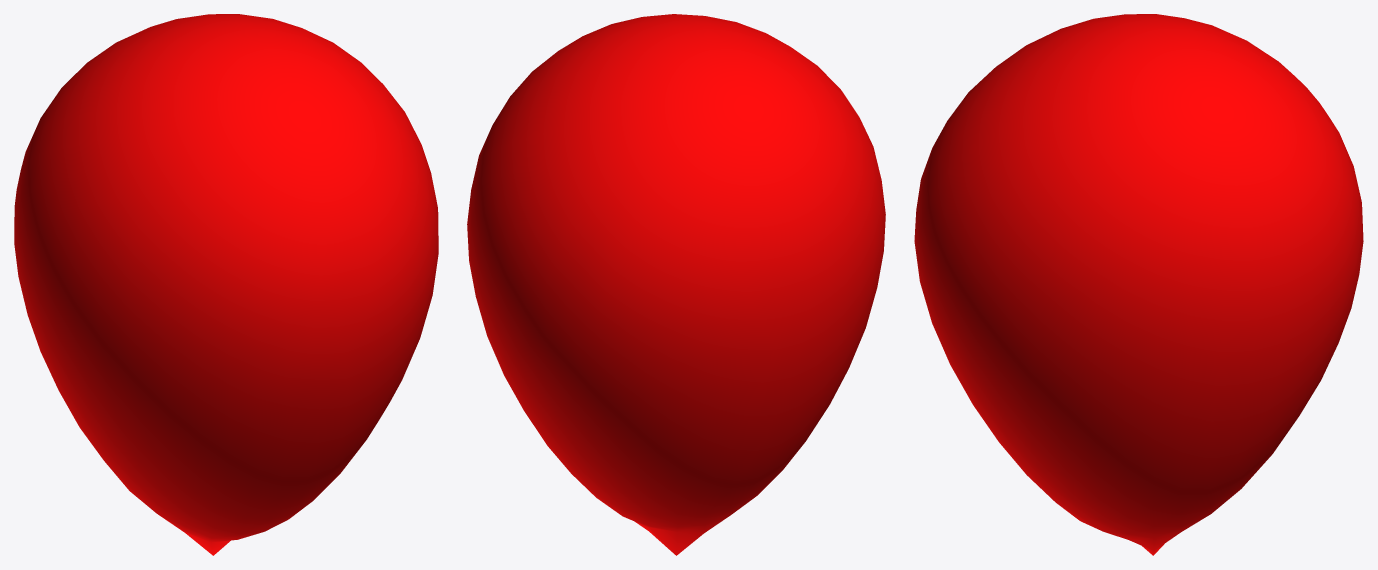
Rendered from Gum.fbx.
The picture shows the model from 3 angles, left to right: view 1: azimuth 30°, elevation 25°; view 2: azimuth 150°, elevation 25°; view 3: azimuth 270°, elevation 25°; orthographic projection.
Parts seen in each view (by area): view 1: GeoSphere01; view 2: GeoSphere01; view 3: GeoSphere01.
Boxes of the visible parts, x1,y1,x2,y2 form: GeoSphere01: [14, 14, 438, 555]; GeoSphere01: [467, 14, 885, 555]; GeoSphere01: [914, 14, 1363, 555].
Bounding box in the file's own units: 250 × 346 × 268.
